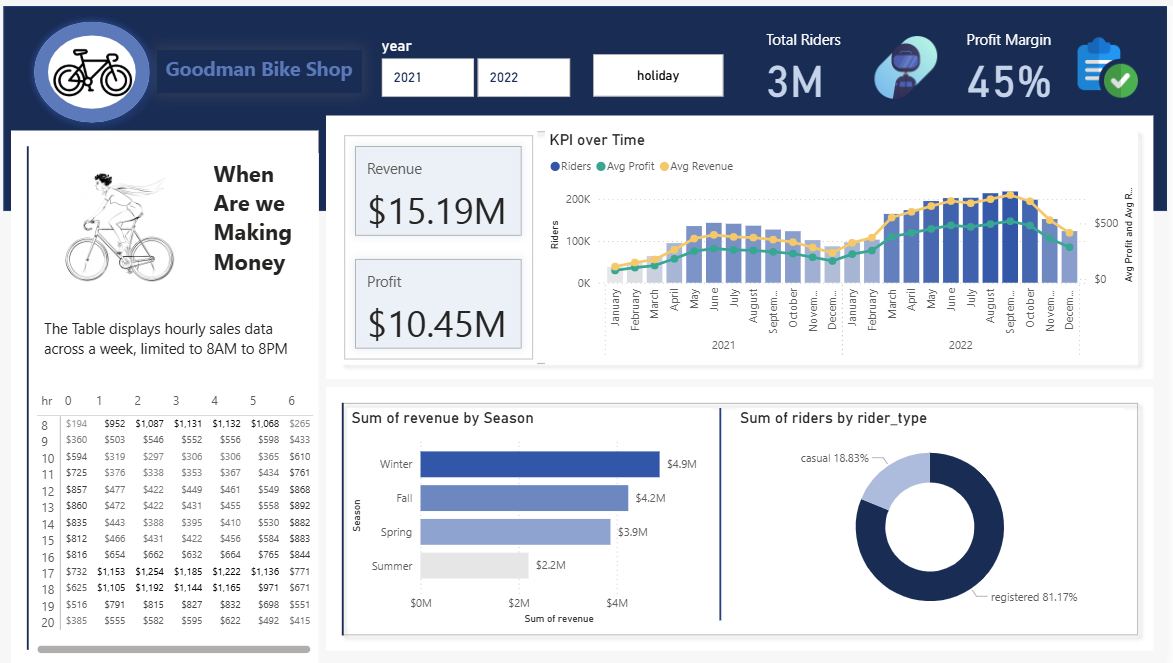

The dashboard page shown, as its layout file describes it:
{"tool":"powerbi","page":{"name":"Page 1","canvas":[1280,720],"ordinal":0},"visuals":[{"type":"shape","box":[32,8,144,128],"z":0,"group":"g1"},{"type":"shape","box":[8,0,1272,224],"z":0},{"type":"image","box":[56,24,96,96],"z":1000,"group":"g1"},{"type":"cardVisual","fields":{"Data":["Sum(bike_share.riders)"]},"box":[16,136,336,584],"z":1000},{"type":"cardVisual","fields":{"Data":["Sum(bike_share.riders)"]},"box":[360,120,904,288],"z":2000},{"type":"cardVisual","fields":{"Data":["Sum(bike_share.riders)"]},"box":[360,416,904,288],"z":3000},{"type":"cardVisual","fields":{"Data":["Sum(bike_share.riders)"]},"box":[40,152,192,184],"z":4000},{"type":"pivotTable","fields":{"Rows":["bike_share.hr"],"Values":["Avg(bike_share.revenue)"],"Columns":["bike_share.weekday"]},"box":[40,416,312,296],"z":5000},{"type":"textbox","box":[232,160,120,176],"z":6000},{"type":"textbox","box":[48,336,296,72],"z":7000},{"type":"lineClusteredColumnComboChart","title":"KPI over Time","fields":{"Category":["bike_share.dteday.Variation.Date Hierarchy.Year","bike_share.dteday.Variation.Date Hierarchy.Month","bike_share.dteday.Variation.Date Hierarchy.Day"],"Y":["Sum(bike_share.riders)"],"Y2":["Avg(bike_share.profit)","Avg(bike_share.revenue)"]},"box":[600,136,648,256],"z":8000},{"type":"clusteredBarChart","fields":{"Y":["Sum(bike_share.revenue)"],"Category":["bike_share.Season"]},"box":[384,440,400,240],"z":9000},{"type":"shape","box":[784,440,16,232],"z":10000},{"type":"donutChart","fields":{"Category":["bike_share.rider_type"],"Y":["Sum(bike_share.riders)"]},"box":[808,440,424,240],"z":11000},{"type":"cardVisual","fields":{"Data":["Sum(bike_share.revenue)","Sum(bike_share.profit)"]},"box":[376,136,216,256],"z":12000},{"type":"cardVisual","fields":{"Data":["Sum(bike_share.riders)","bike_share.Profit Margin"]},"box":[824,8,440,104],"z":13000},{"type":"textbox","box":[176,48,224,48],"z":14000},{"type":"advancedSlicerVisual","fields":{"Values":["bike_share.year"]},"box":[416,32,216,72],"z":15000},{"type":"group","id":"g1","title":"Group 1","box":[32,8,144,128],"z":16000},{"type":"advancedSlicerVisual","fields":{"Values":["bike_share.Holiday"]},"box":[648,48,152,56],"z":17000}]}

Visuals, with their boxes in screenshot pixels (x1, y1, x2, y2), scaled from the page's 1280x720 canvas onto the 1173x663 screenshot:
shape: rect(29, 7, 161, 125)
shape: rect(7, 0, 1172, 206)
image: rect(51, 22, 139, 110)
cardVisual - Sum(bike_share.riders): rect(15, 125, 323, 662)
cardVisual - Sum(bike_share.riders): rect(330, 110, 1158, 376)
cardVisual - Sum(bike_share.riders): rect(330, 383, 1158, 648)
cardVisual - Sum(bike_share.riders): rect(37, 140, 213, 309)
pivotTable - bike_share.hr x Avg(bike_share.revenue): rect(37, 383, 323, 656)
textbox: rect(213, 147, 323, 309)
textbox: rect(44, 309, 315, 376)
"KPI over Time" lineClusteredColumnComboChart: rect(550, 125, 1144, 361)
clusteredBarChart - Sum(bike_share.revenue) x bike_share.Season: rect(352, 405, 718, 626)
shape: rect(718, 405, 733, 619)
donutChart - bike_share.rider_type x Sum(bike_share.riders): rect(740, 405, 1129, 626)
cardVisual - Sum(bike_share.revenue) x Sum(bike_share.profit): rect(345, 125, 543, 361)
cardVisual - Sum(bike_share.riders) x bike_share.Profit Margin: rect(755, 7, 1158, 103)
textbox: rect(161, 44, 367, 88)
advancedSlicerVisual - bike_share.year: rect(381, 29, 579, 96)
"Group 1" group: rect(29, 7, 161, 125)
advancedSlicerVisual - bike_share.Holiday: rect(594, 44, 733, 96)
